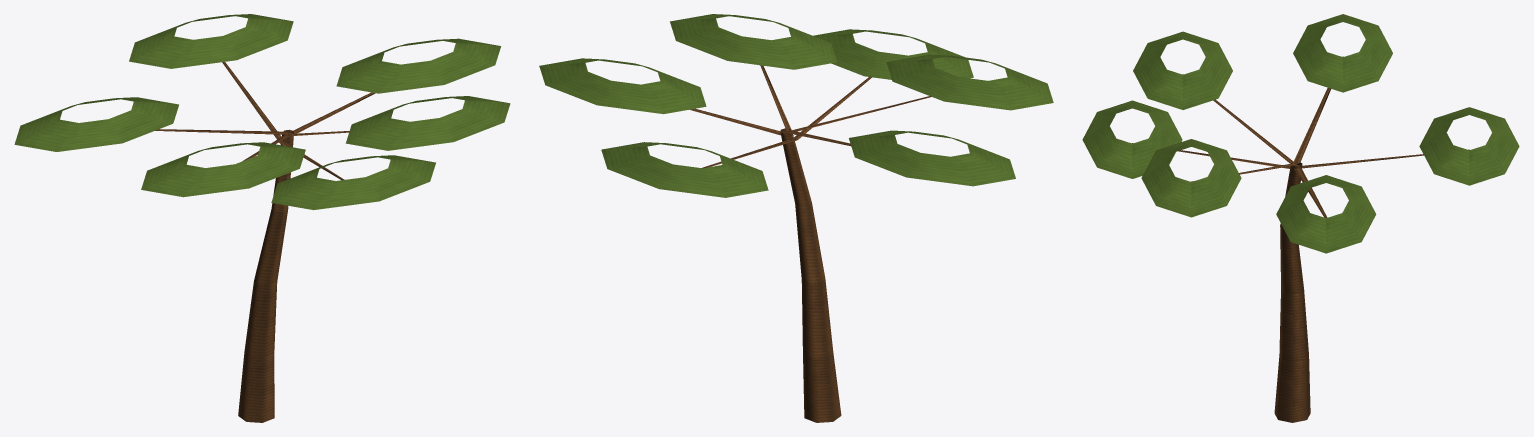
File: SM_Acacia.fbx
3 views of the same model, side by side, from view 1: azimuth 30°, elevation 25°; view 2: azimuth 150°, elevation 25°; view 3: azimuth 270°, elevation 25° (orthographic). The views are drawn at different scales.
Parts seen in each view (by area): view 1: SM_Acacia; view 2: SM_Acacia; view 3: SM_Acacia.
Part boxes in pixels (<box>): SM_Acacia: <box>14,14,510,422</box>; SM_Acacia: <box>539,14,1053,422</box>; SM_Acacia: <box>1082,14,1519,422</box>.
Size of the model in its own units: 641 by 413 by 519.
